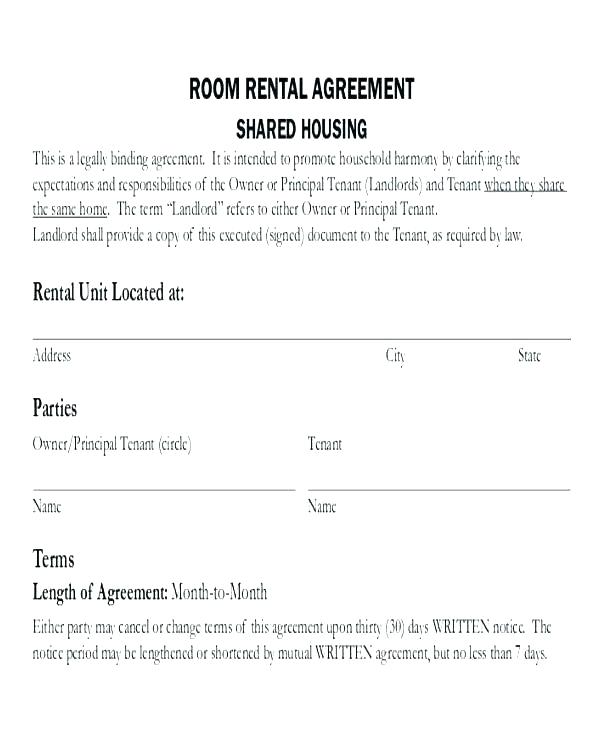textline: (31, 310, 579, 347), (35, 457, 298, 497), (306, 457, 574, 496)
